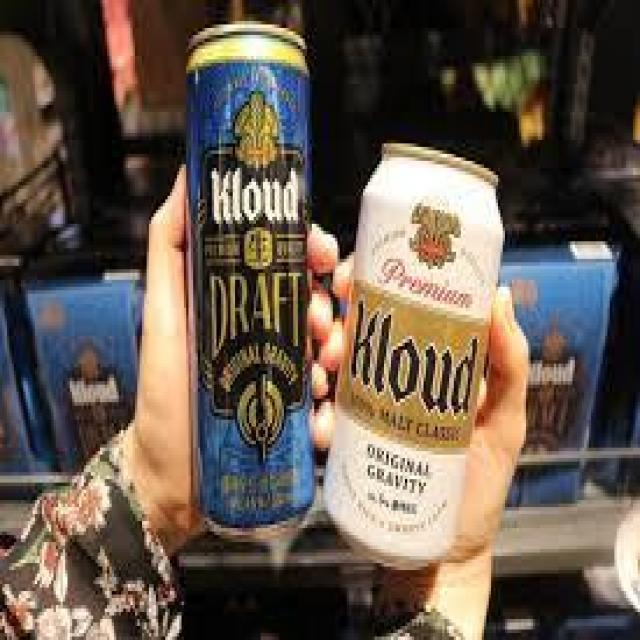beer-can: (321, 125, 514, 588), (184, 21, 316, 539)
